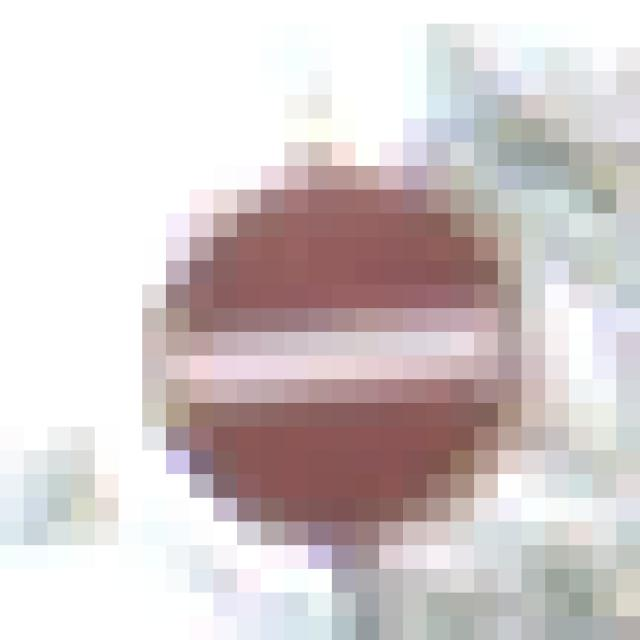No Entry: (143, 143, 499, 523)
